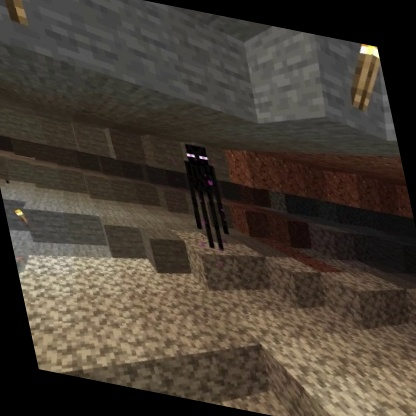enderman: (175, 139, 236, 255)
